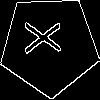X: (24, 20, 70, 55)
